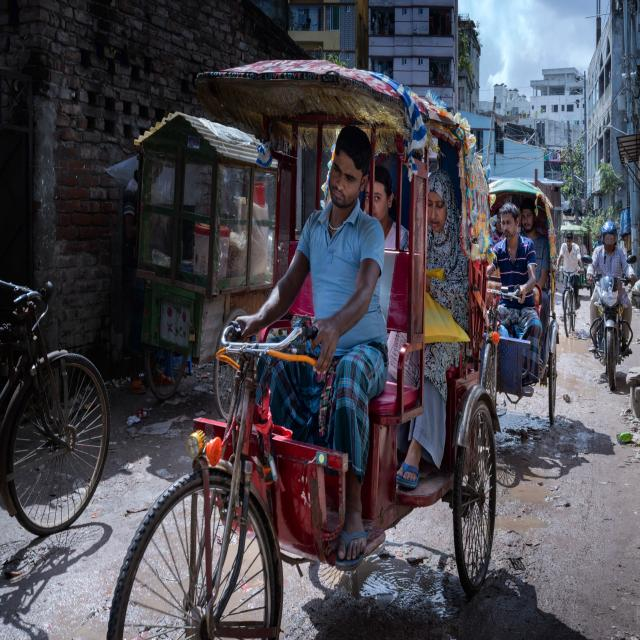bike: (589, 275, 630, 390)
rickshaw: (123, 96, 467, 617), (483, 169, 569, 411)
